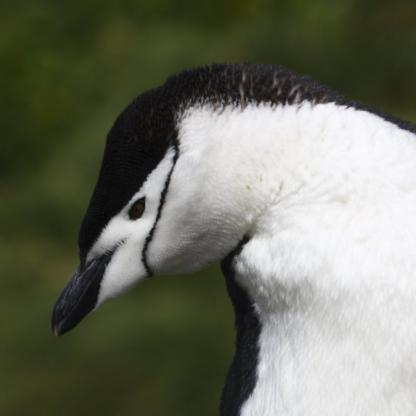Penguin: (36, 46, 416, 416)
